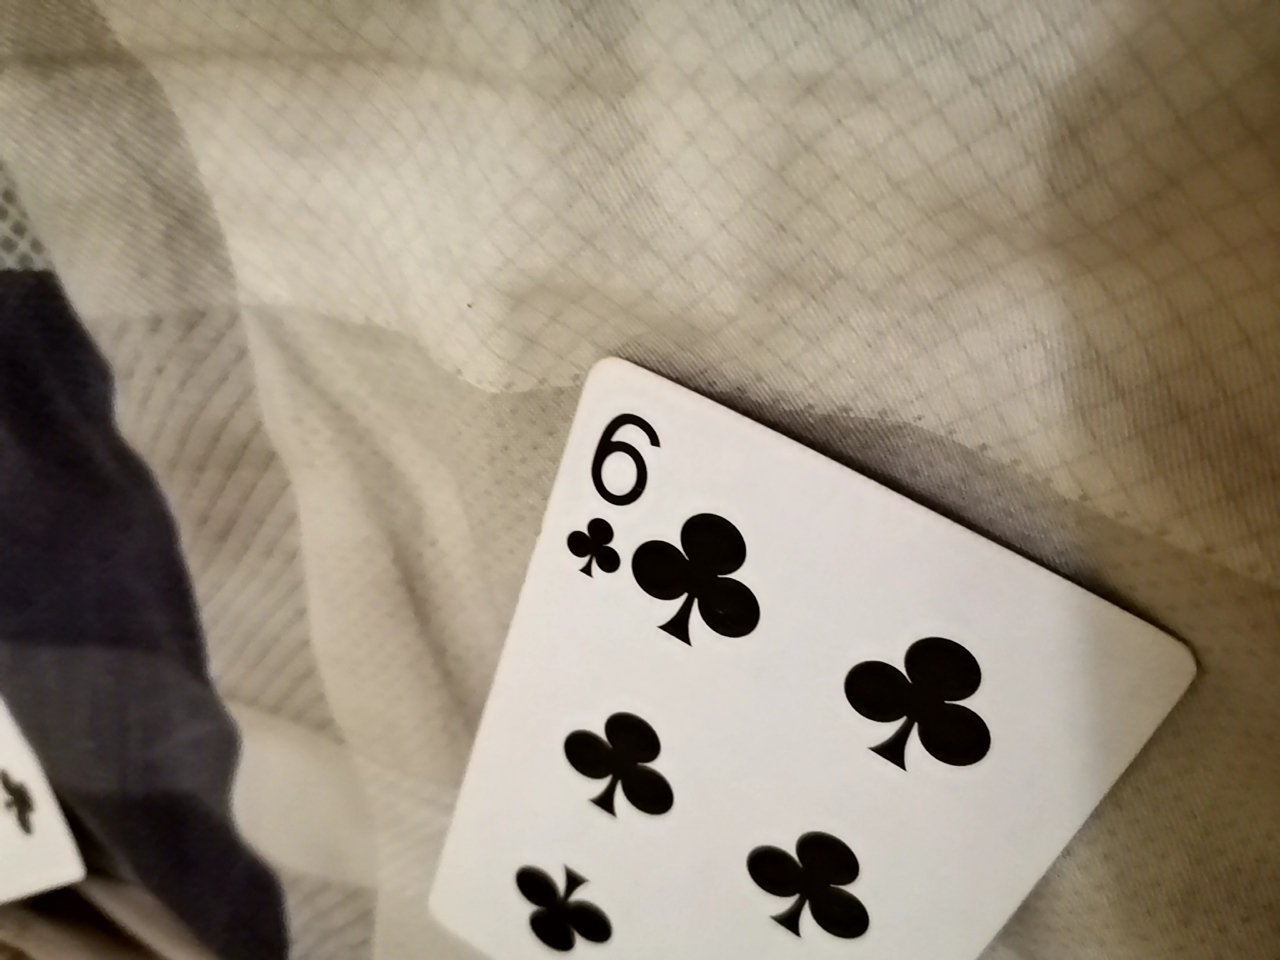mh 6: (400, 376, 1143, 958)
